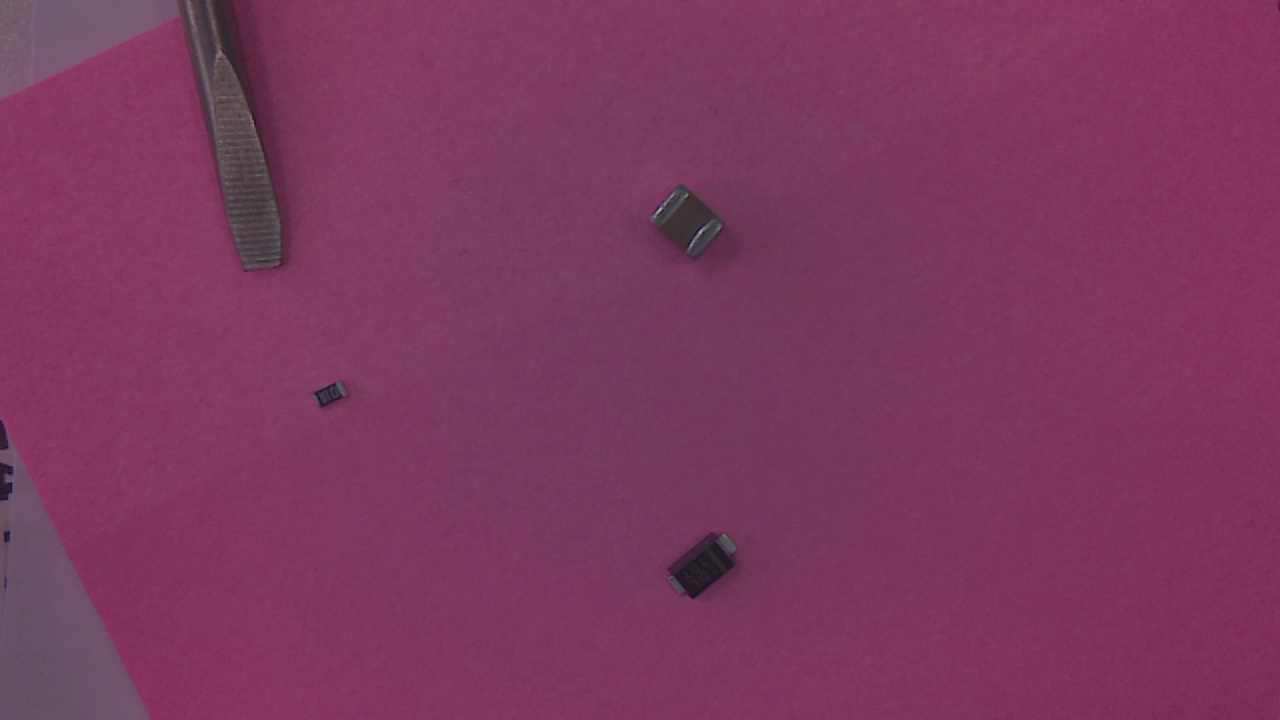Condensator: (652, 191, 735, 269)
Diode: (668, 543, 749, 612)
Resistor: (304, 384, 348, 424)
